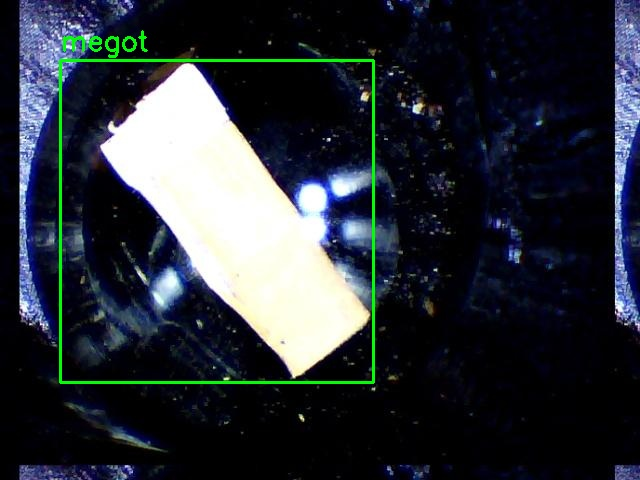megot: (60, 60, 373, 382)
